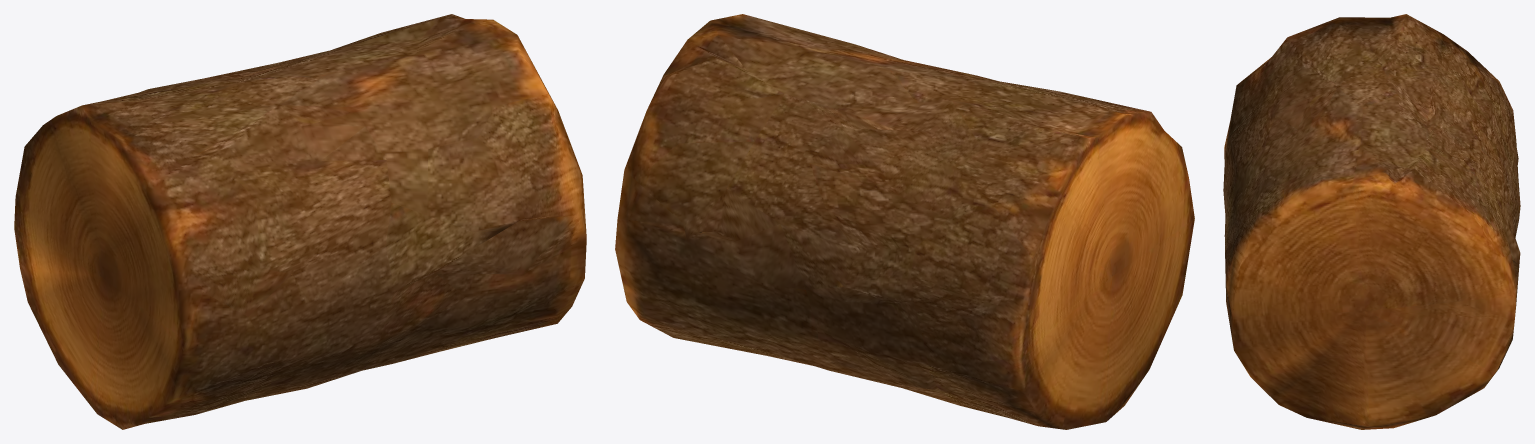
File: kutuk.glb
3 renders of one model, left to right at view 1: azimuth 30°, elevation 25°; view 2: azimuth 150°, elevation 25°; view 3: azimuth 270°, elevation 25°, orthographic. The views are drawn at different scales.
Visible parts, largest first — view 1: tripo_node_2d8abf46-0999-4036-ac62-8c63ec26d30d; view 2: tripo_node_2d8abf46-0999-4036-ac62-8c63ec26d30d; view 3: tripo_node_2d8abf46-0999-4036-ac62-8c63ec26d30d.
Part boxes in pixels (x1,y1,x2,y2): tripo_node_2d8abf46-0999-4036-ac62-8c63ec26d30d: [14, 14, 586, 429]; tripo_node_2d8abf46-0999-4036-ac62-8c63ec26d30d: [615, 14, 1194, 429]; tripo_node_2d8abf46-0999-4036-ac62-8c63ec26d30d: [1223, 14, 1520, 429].
Size of the model in its own units: 0.9781 by 0.6756 by 0.7196.
Materials: 1 (1 with a texture image).
